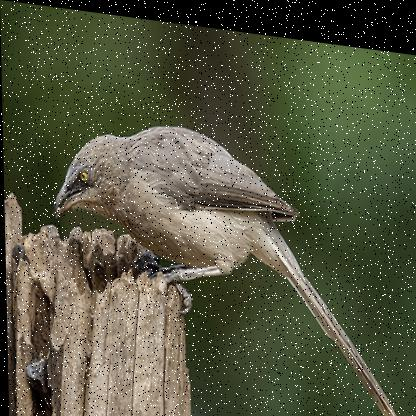Burung: (50, 106, 401, 415)
